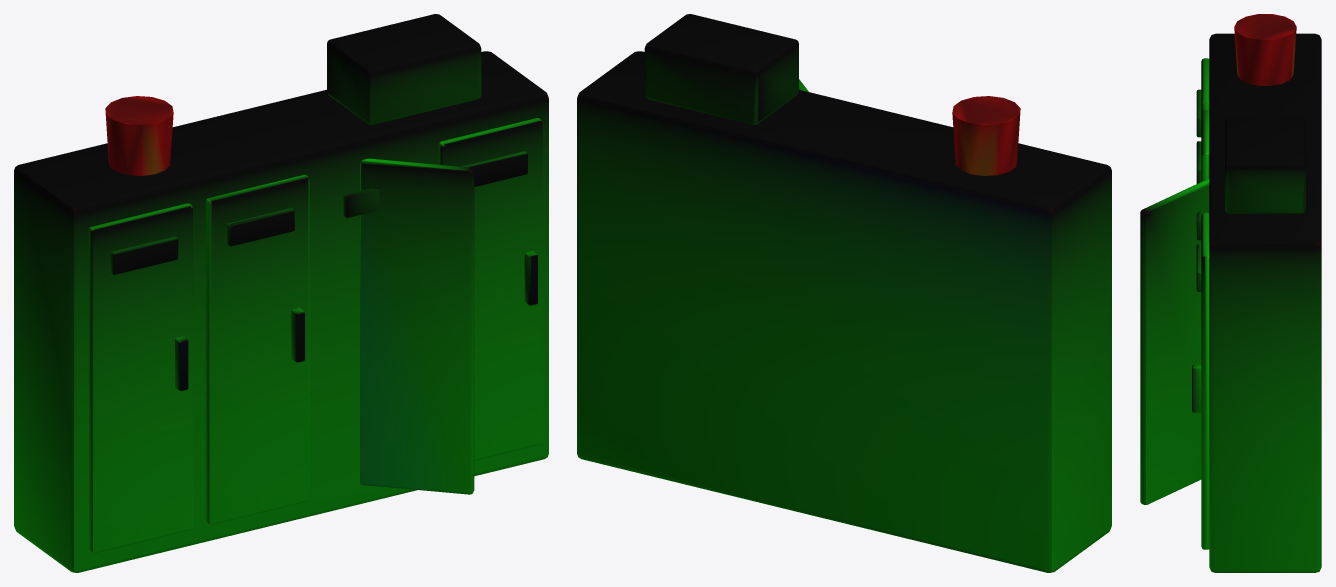
File: hero_locker_bank.glb
3 renders of one model, left to right at view 1: azimuth 30°, elevation 25°; view 2: azimuth 150°, elevation 25°; view 3: azimuth 270°, elevation 25°, orthographic. The views are drawn at different scales.
Visible parts, largest first — view 1: HeroLockerBank; view 2: HeroLockerBank; view 3: HeroLockerBank.
Part boxes in pixels (x1,y1,x2,y2): HeroLockerBank: (14,14,548,572); HeroLockerBank: (577,14,1111,572); HeroLockerBank: (1140,14,1321,572).
Bounding box in the file's own units: 3.2 × 2.72 × 1.16.
